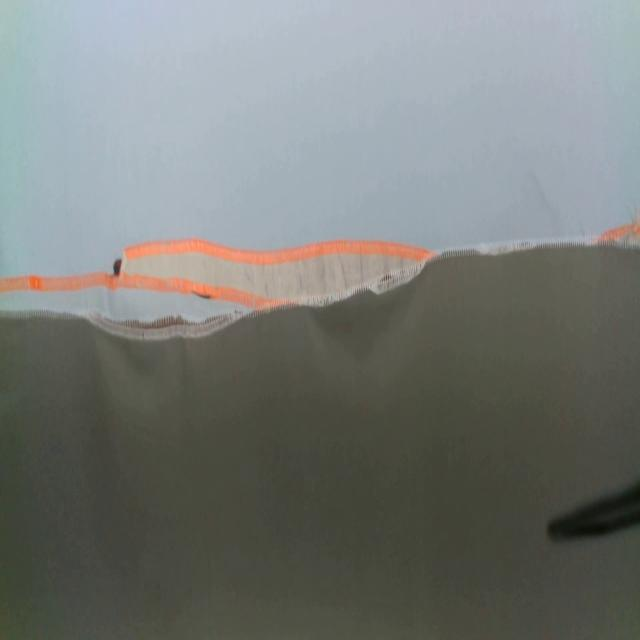hole: (192, 290, 212, 302), (112, 258, 124, 274)
